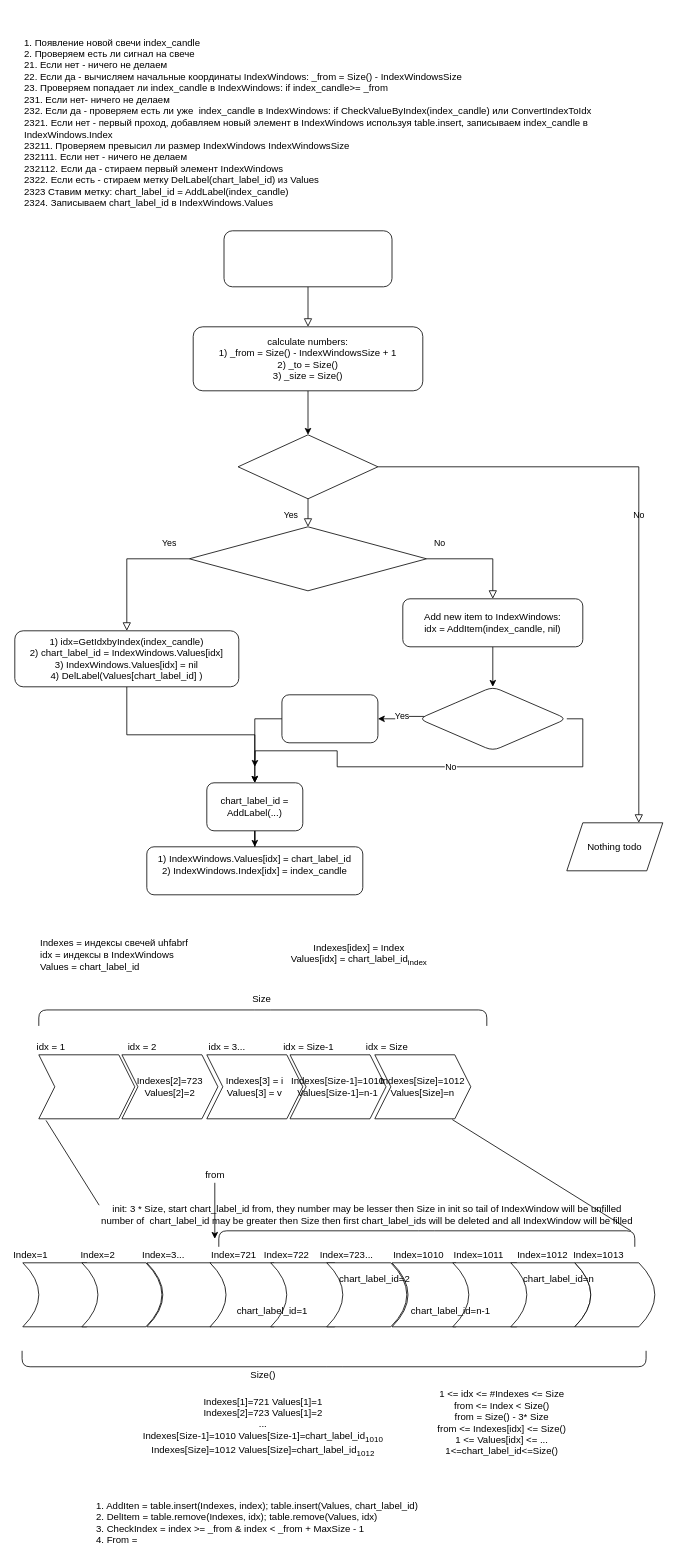
The diagram is 685 pixels wide and 1561 high, and some of its shapes have lost their labels. Here are the shapes that lost their labels. From the top down, the centre of each, then its label:
At point (307, 258): "candle index have a signal".
At point (307, 466): "index_candle >= _from".
At point (308, 558): "if CheckValueByIndex(index_candle)".
At point (329, 718): "Del first item IndexWindows".
At point (492, 718): "if #IndexWindows.Index > IndexWindowsSize".
At point (86, 1086): "indexes[1]=721 Values[1]=1".
